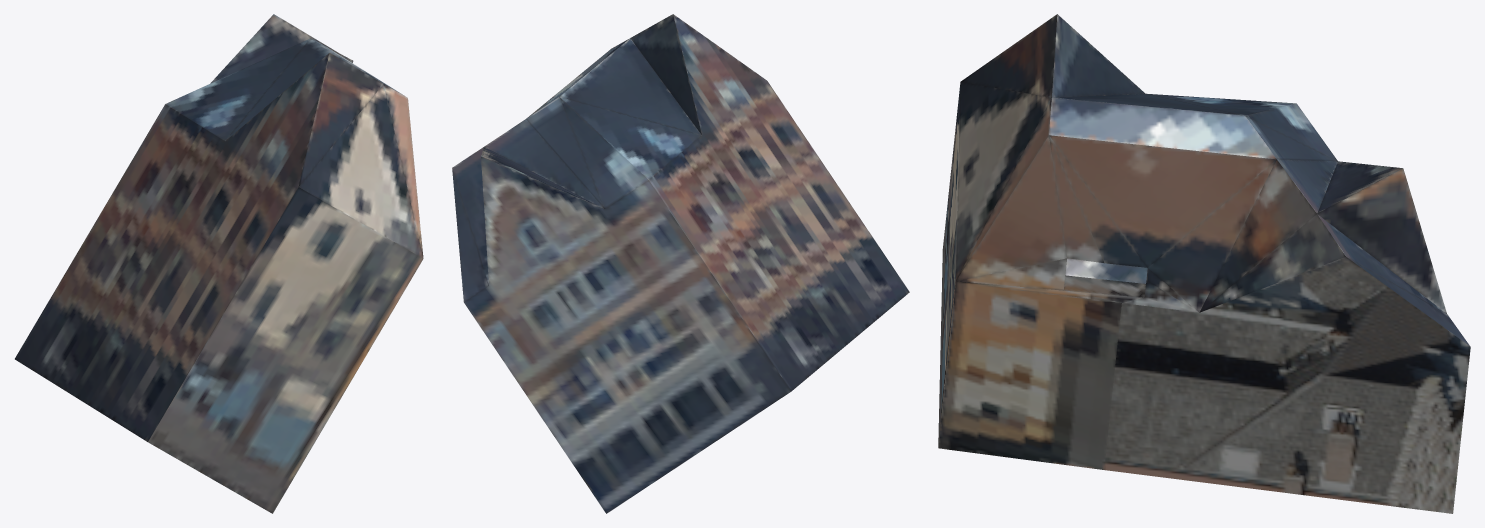
3 views of the same model, side by side, from view 1: azimuth 30°, elevation 25°; view 2: azimuth 150°, elevation 25°; view 3: azimuth 270°, elevation 25° (orthographic). The views are drawn at different scales.
Visible parts, largest first — view 1: BAG_0599100000671659 (×2); view 2: BAG_0599100000671659 (×2); view 3: BAG_0599100000671659 (×2).
Boxes of the visible parts, left/top/right/bottom form: BAG_0599100000671659 (×2): left=15, top=14, right=423, bottom=513; BAG_0599100000671659 (×2): left=452, top=14, right=909, bottom=513; BAG_0599100000671659 (×2): left=938, top=14, right=1470, bottom=513.
Bounding box in the file's own units: 17.48 × 20.09 × 17.63.
Materials: 1 (1 with a texture image).
